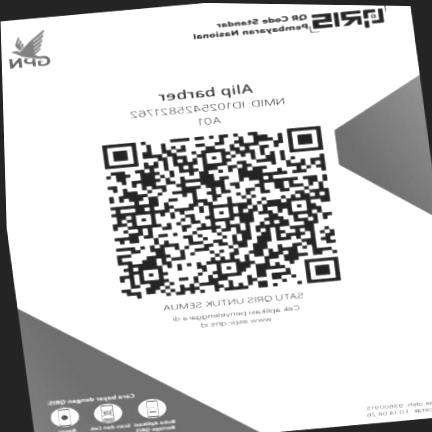Qris-Positioning: (1, 3, 432, 432)
